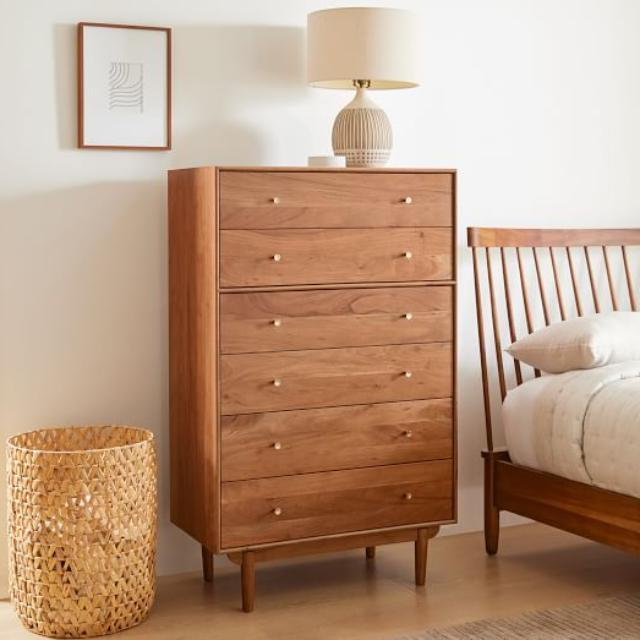dresser: (163, 154, 471, 625)
